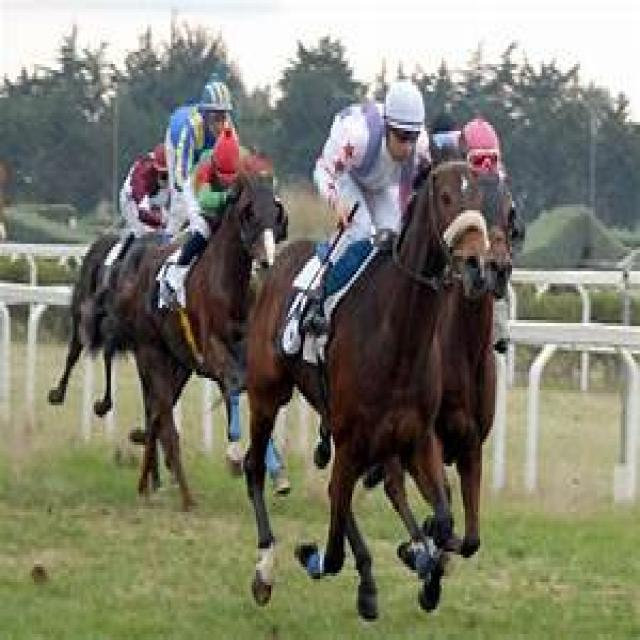animal: (241, 137, 492, 618), (133, 171, 294, 517)
